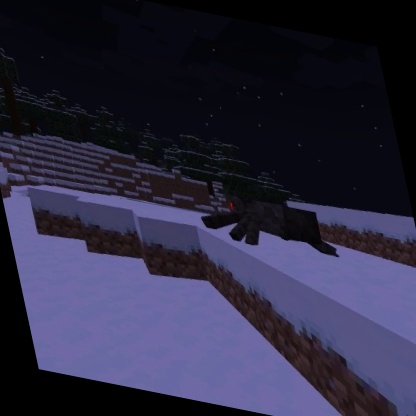spider: (190, 183, 343, 267)
